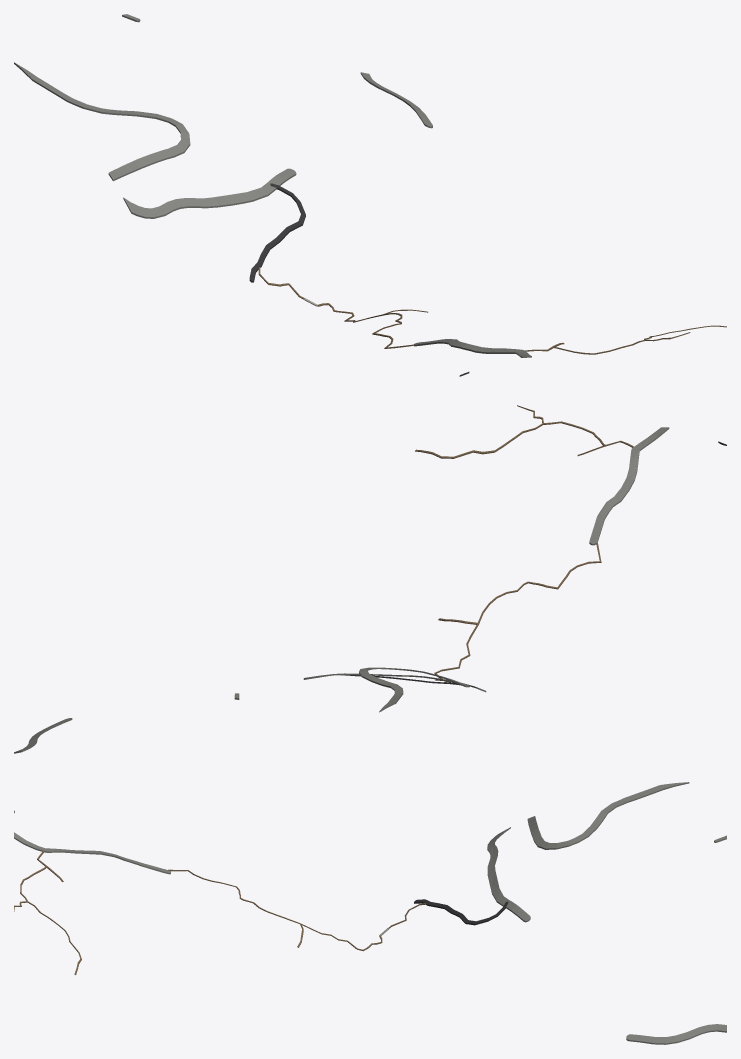
3 views of the same model, one above another, from view 1: azimuth 30°, elevation 25°; view 2: azimuth 150°, elevation 25°; view 3: azimuth 270°, elevation 25° (orthographic). The views are drawn at different scales.
Bounding box in the file's own units: 301 × 103 × 583.
